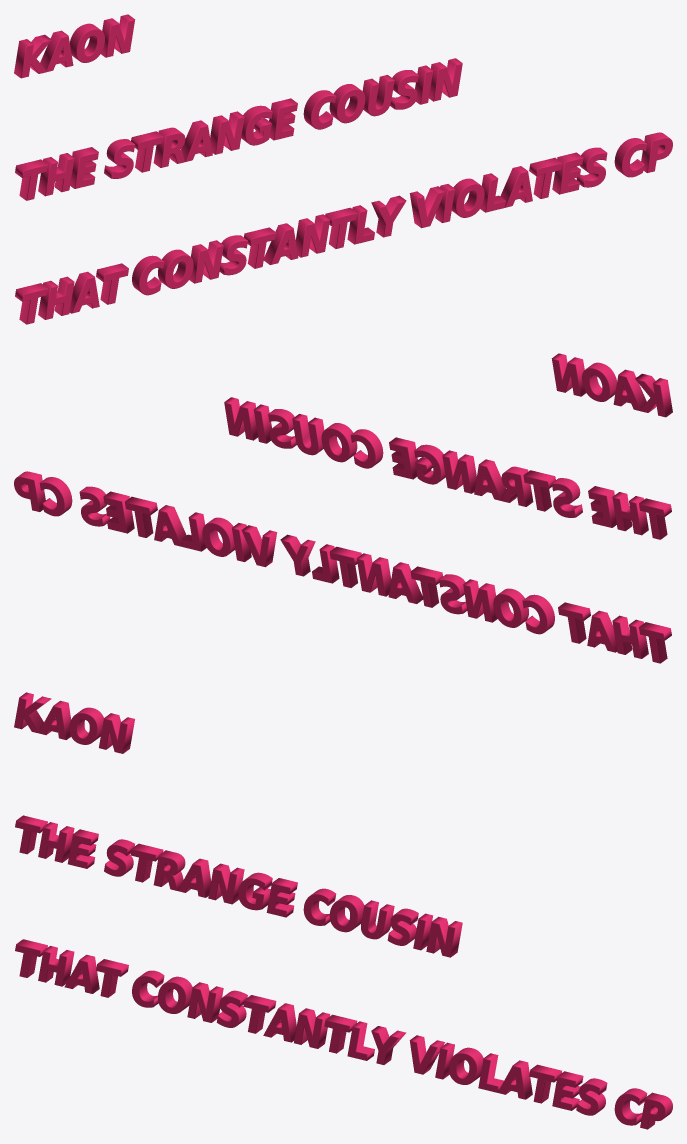
File: KaonIntroductionLong.fbx
3 renders of one model, top to bottom at view 1: azimuth 30°, elevation 25°; view 2: azimuth 150°, elevation 25°; view 3: azimuth 330°, elevation 25°, orthographic.
Parts seen in each view (by area): view 1: Kaon_introduction_long; view 2: Kaon_introduction_long; view 3: Kaon_introduction_long.
Boxes of the visible parts, <box> form: Kaon_introduction_long: <box>14,14,672,324</box>; Kaon_introduction_long: <box>14,353,672,663</box>; Kaon_introduction_long: <box>14,692,672,1129</box>.
Size of the model in its own units: 1103 by 452 by 22.
